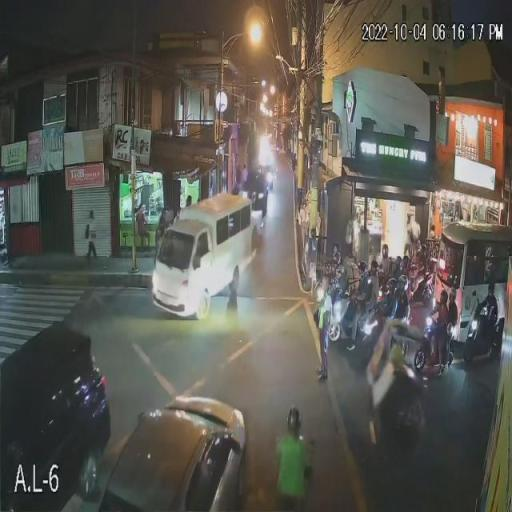helmet: (283, 402, 304, 440), (328, 254, 343, 271), (398, 276, 410, 293), (367, 261, 380, 275), (384, 274, 396, 288), (448, 286, 457, 304), (418, 247, 428, 263), (378, 246, 390, 259), (401, 255, 412, 269), (394, 257, 404, 271), (354, 261, 366, 272), (409, 262, 419, 274), (438, 291, 449, 301), (486, 283, 496, 294)
motorcycle: (401, 295, 440, 372), (325, 280, 367, 346), (354, 295, 394, 355), (462, 307, 500, 365), (396, 269, 442, 304)
rider: (270, 407, 316, 501), (341, 262, 368, 324), (369, 272, 400, 326), (406, 249, 435, 303), (431, 285, 451, 363), (444, 287, 461, 365), (478, 282, 500, 337), (324, 256, 346, 303), (396, 276, 409, 336), (366, 262, 379, 314), (377, 242, 391, 282)
